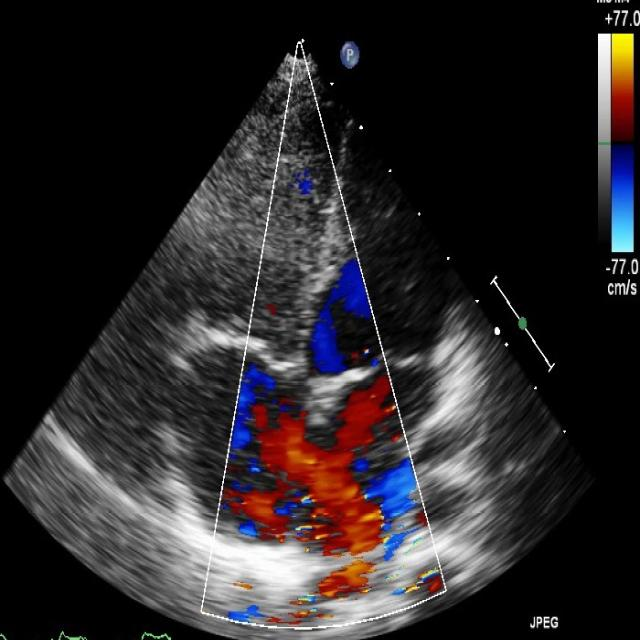ASDType2: (228, 352, 390, 553)
